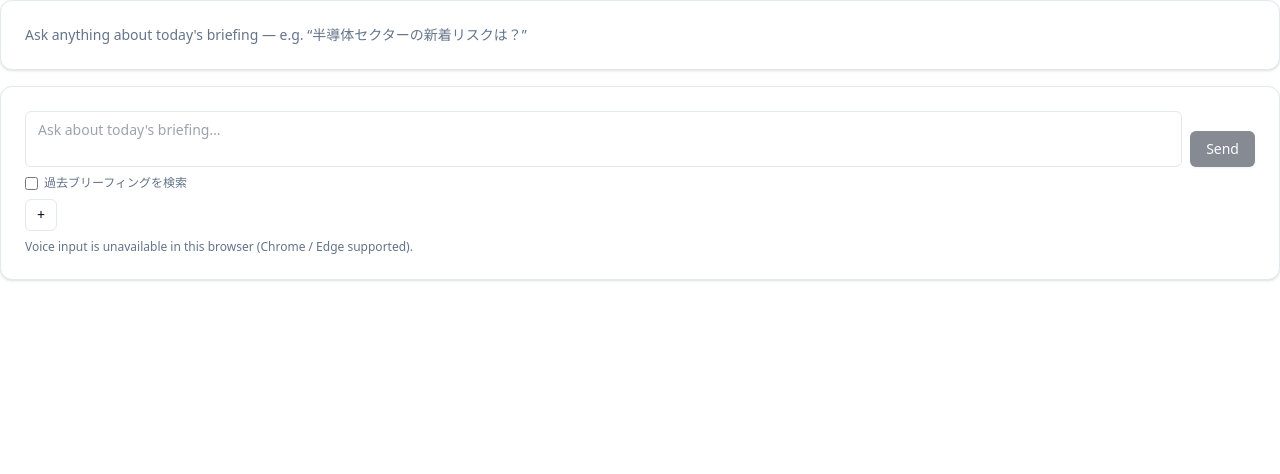
ChatForm › renders markdown in assistant output via react-markdown
Type "q" into the text box with test id "chat-input". click: (604, 139)
box: [25, 111, 1182, 167]
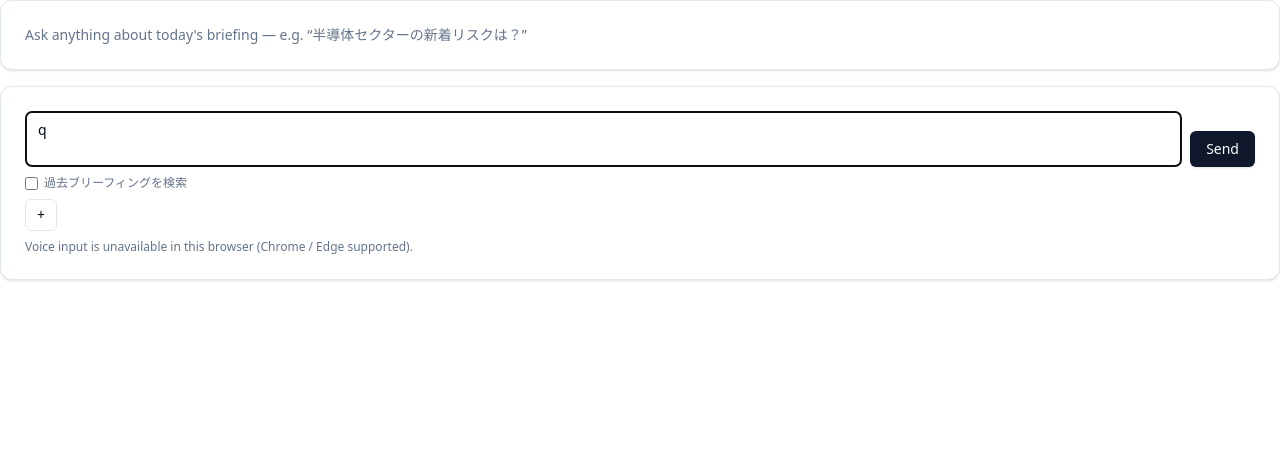
Click the button with test id "send-button". click: (1223, 149)
box: [1190, 131, 1255, 167]
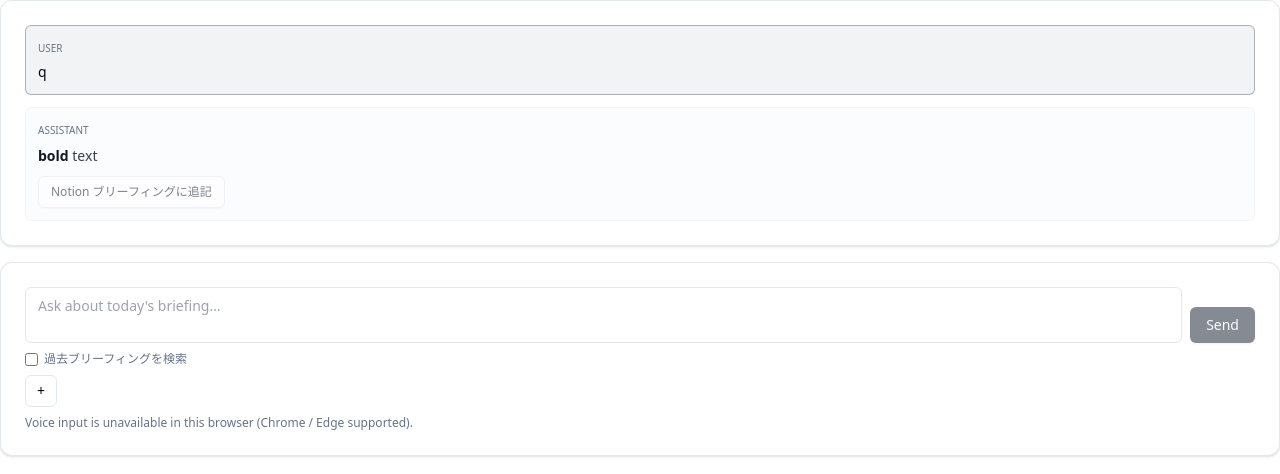
Expected: the text "bold" is shown, [38, 146, 69, 165]
